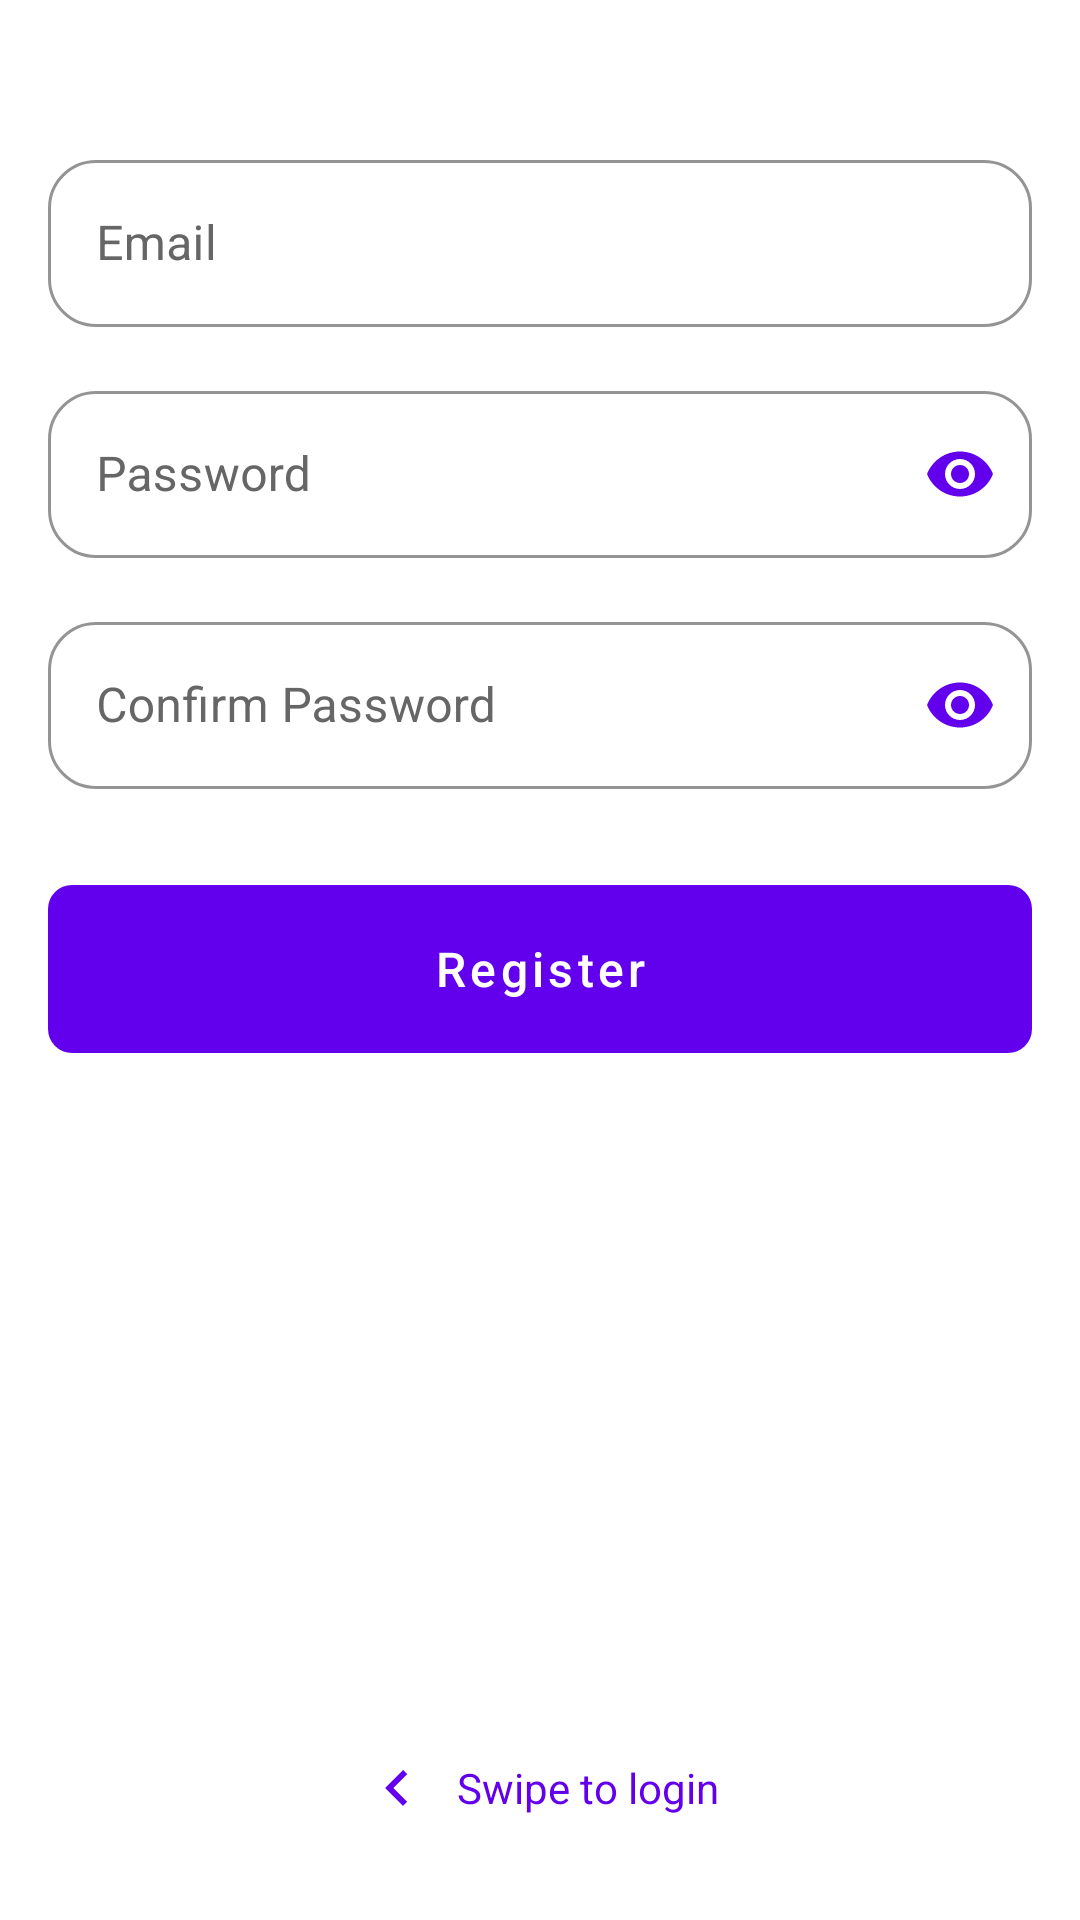

Named icons in this screenshot (1080 x 1920) and their bounding boxes, {"left": x1, "top": y1, "right": x2, "bottom": y2}:
arrow left: {"left": 385, "top": 1770, "right": 407, "bottom": 1806}
